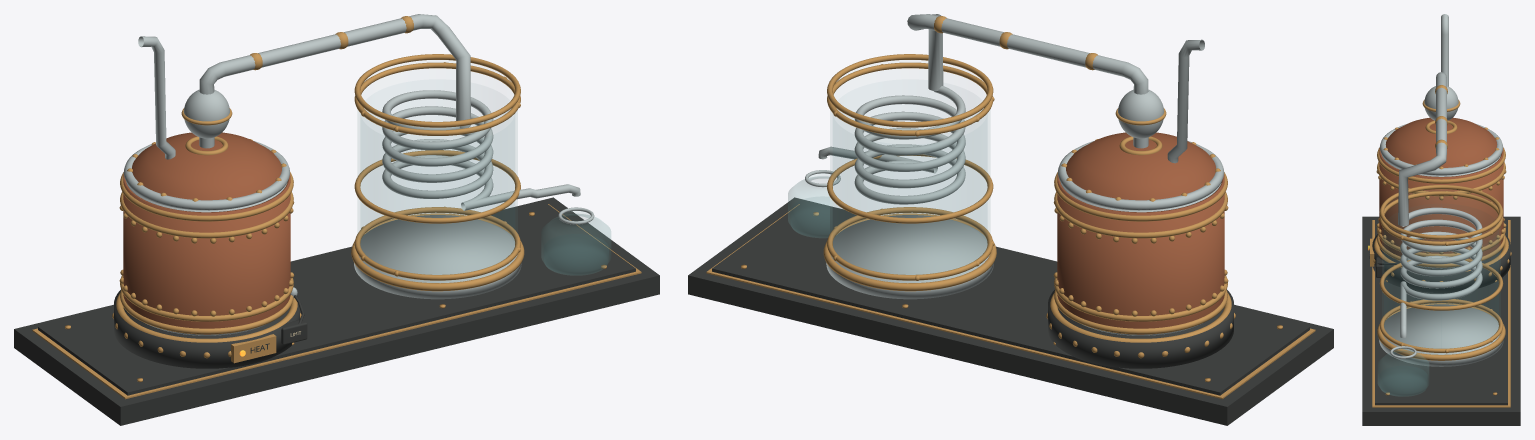
Rendered from copper-crown.glb.
3 renders of one model, left to right at view 1: azimuth 30°, elevation 25°; view 2: azimuth 150°, elevation 25°; view 3: azimuth 270°, elevation 25°, orthographic. The views are drawn at different scales.
Visible parts, largest first — view 1: Dark base top, Black iron display plinth, Decorative external copper jacket, Bath steel bottom, 316L submerged condenser coil, Removable domed lid, Stainless vapor bridge, Black electric heater, Open glass collection carafe, Brass base inset, Bath brass hoop.003, Stainless kettle lip (+13 smaller); view 2: Dark base top, Black iron display plinth, Decorative external copper jacket, Bath steel bottom, 316L submerged condenser coil, Removable domed lid, Black electric heater, Stainless vapor bridge, Brass base inset, Bath brass hoop.003, Stainless kettle lip, Open glass collection carafe (+11 smaller); view 3: Dark base top, Black iron display plinth, Decorative external copper jacket, Bath steel bottom, 316L submerged condenser coil, Removable domed lid, Open glass collection carafe, Black electric heater, Stainless vapor bridge, Brass base inset, Bath brass hoop.003, Bath brass hoop.002 (+14 smaller).
Part boxes in pixels (x1,y1,x2,y2): Dark base top: (38, 203, 635, 395); Black iron display plinth: (14, 197, 659, 425); Decorative external copper jacket: (123, 174, 290, 334); Bath steel bottom: (354, 215, 521, 299); 316L submerged condenser coil: (382, 90, 493, 210); Removable domed lid: (132, 132, 281, 200); Stainless vapor bridge: (199, 14, 470, 128); Black electric heater: (114, 289, 299, 368); Open glass collection carafe: (541, 211, 610, 275); Brass base inset: (32, 204, 641, 399); Bath brass hoop.003: (354, 54, 520, 127); Stainless kettle lip: (123, 140, 289, 210); Dark base top: (712, 203, 1309, 395); Black iron display plinth: (688, 197, 1333, 425); Decorative external copper jacket: (1057, 174, 1224, 334); Bath steel bottom: (826, 215, 993, 299); 316L submerged condenser coil: (854, 86, 965, 204); Removable domed lid: (1066, 132, 1215, 200); Black electric heater: (1048, 289, 1233, 368); Stainless vapor bridge: (907, 14, 1148, 94); Brass base inset: (706, 204, 1315, 399); Bath brass hoop.003: (827, 54, 993, 127); Stainless kettle lip: (1058, 140, 1224, 210); Open glass collection carafe: (788, 174, 829, 237); Dark base top: (1375, 219, 1507, 405); Black iron display plinth: (1362, 216, 1520, 425); Decorative external copper jacket: (1379, 148, 1503, 267); Bath steel bottom: (1379, 304, 1503, 366); 316L submerged condenser coil: (1400, 207, 1482, 300); Removable domed lid: (1385, 117, 1497, 167); Open glass collection carafe: (1378, 349, 1428, 396); Black electric heater: (1372, 234, 1510, 292); Stainless vapor bridge: (1398, 72, 1446, 226); Brass base inset: (1372, 220, 1510, 407); Bath brass hoop.003: (1379, 185, 1503, 239); Bath brass hoop.002: (1379, 191, 1503, 245).
Bounding box in the file's own units: 5.35 × 3.13 × 1.83.
